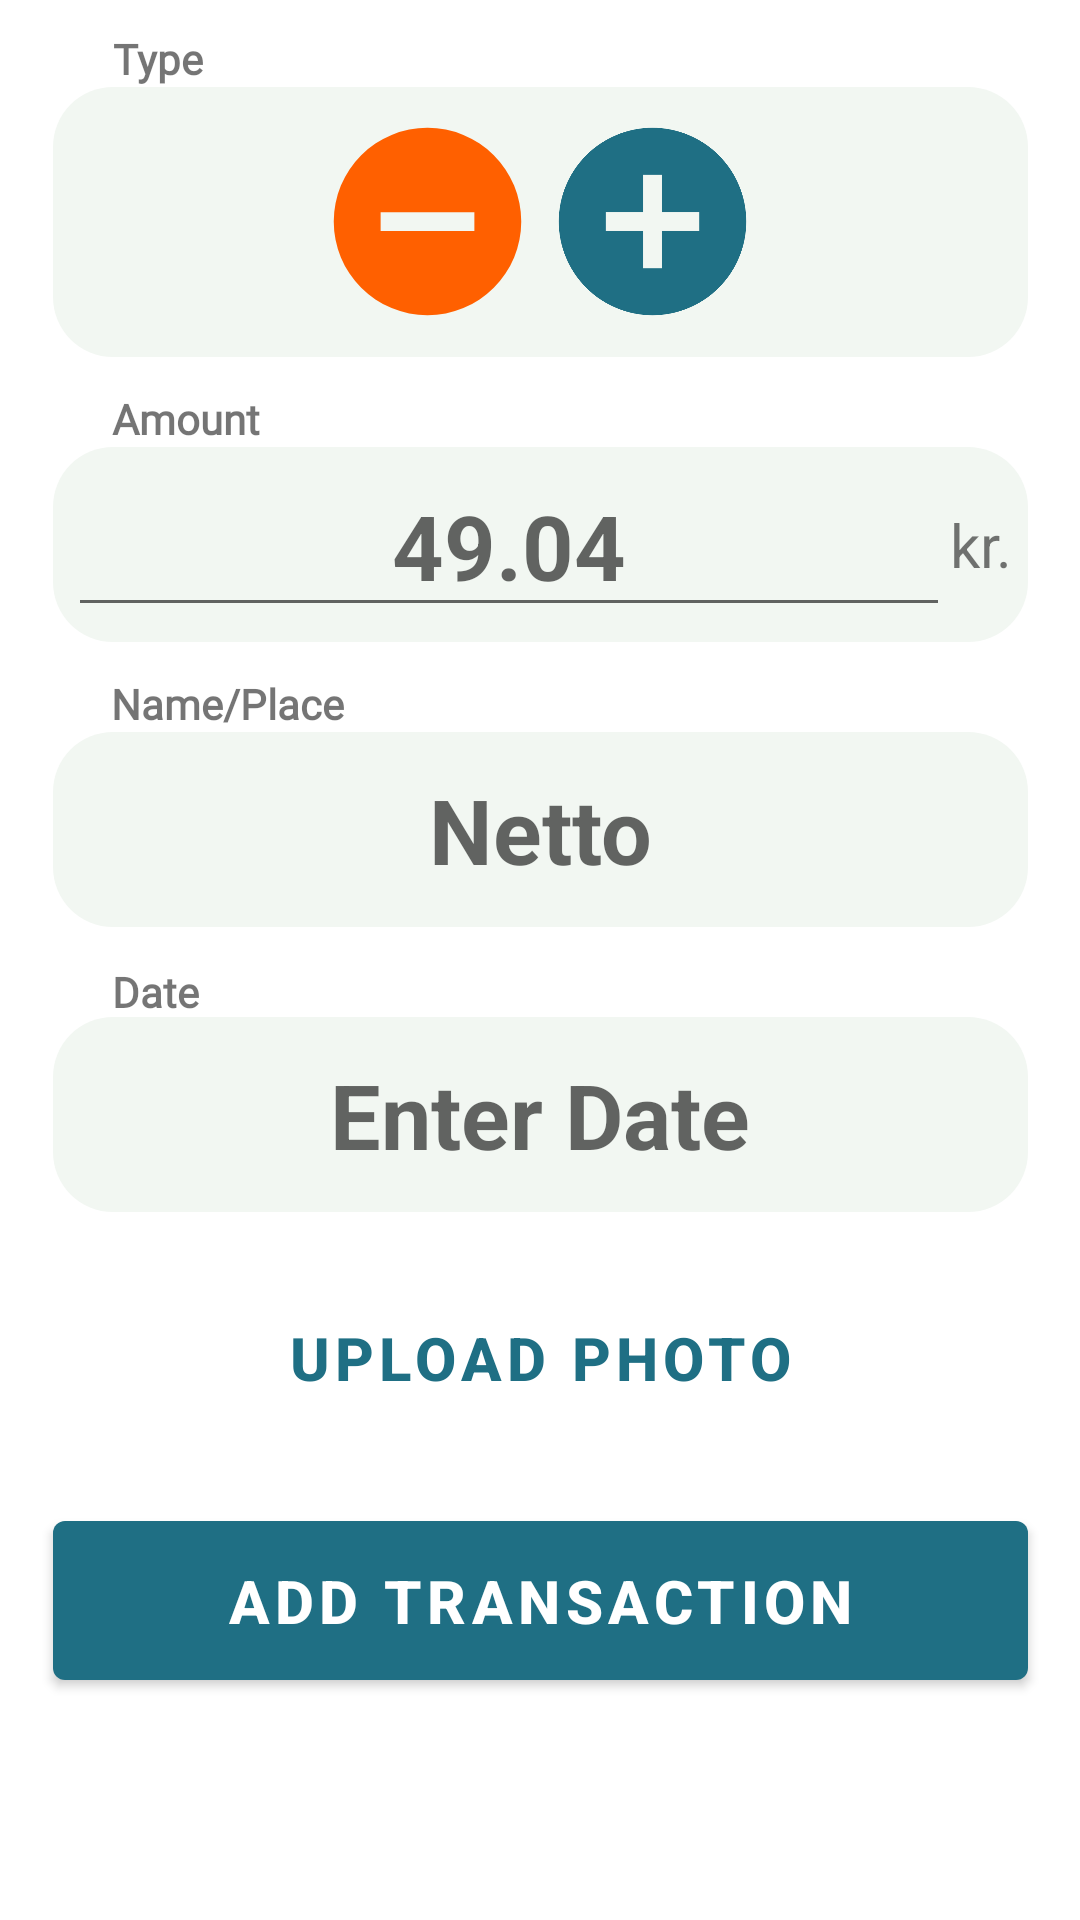

Locate icon controls on the screen. Image size 1080 x 1920, boxes as [x1=x1, y1=y1, x2=x2, y2=y2].
add circle: [x1=559, y1=127, x2=747, y2=316]
minus circle: [x1=333, y1=127, x2=522, y2=316]
